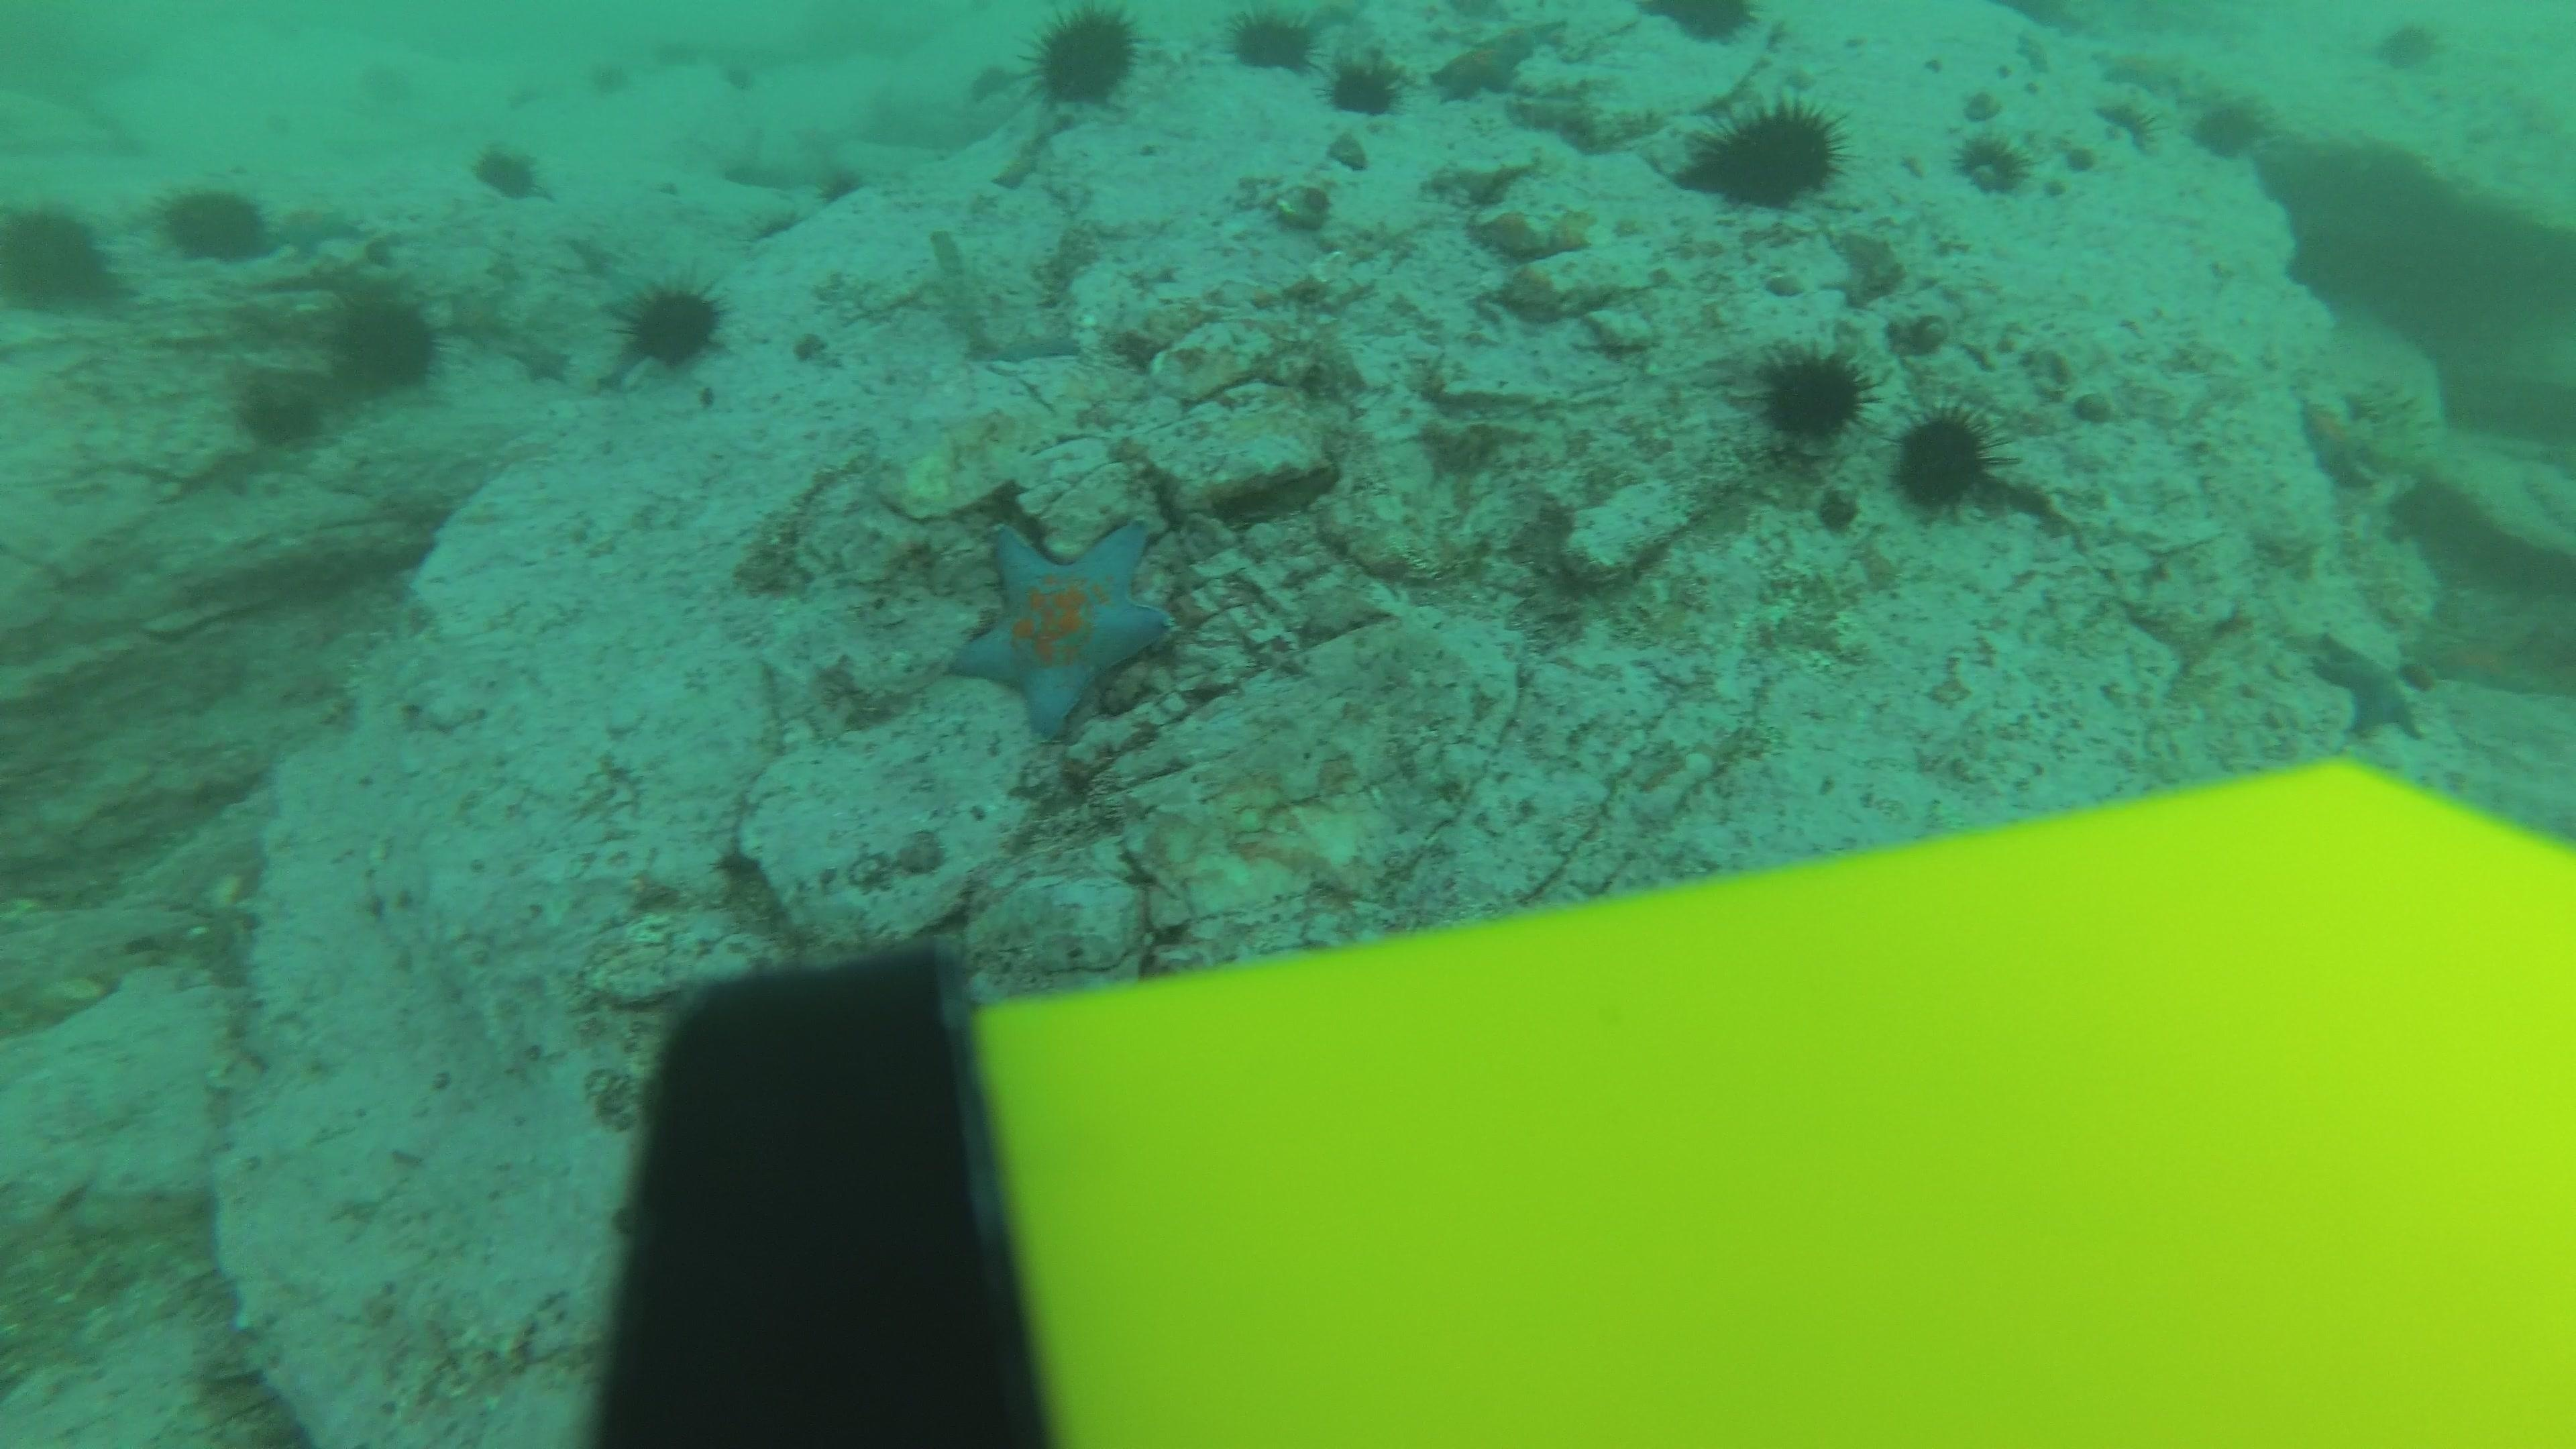echinus: (1679, 92, 1849, 214), (2, 195, 120, 318), (1019, 5, 1148, 115), (1886, 403, 2006, 518), (1748, 338, 1872, 448), (326, 287, 446, 398), (614, 274, 731, 377), (157, 179, 272, 269), (232, 373, 331, 455), (1223, 5, 1322, 81), (2185, 88, 2270, 165), (1322, 50, 1407, 122), (1644, 0, 1762, 51), (1953, 129, 2031, 200), (469, 136, 545, 203)
starfish: (950, 511, 1178, 741), (2305, 630, 2431, 747), (1426, 16, 1566, 104), (2408, 614, 2551, 699), (2293, 389, 2385, 492), (1826, 226, 1909, 306), (970, 313, 1086, 370), (269, 196, 368, 258), (2091, 42, 2192, 96), (2091, 92, 2160, 149), (511, 336, 573, 389), (1323, 131, 1373, 175)
